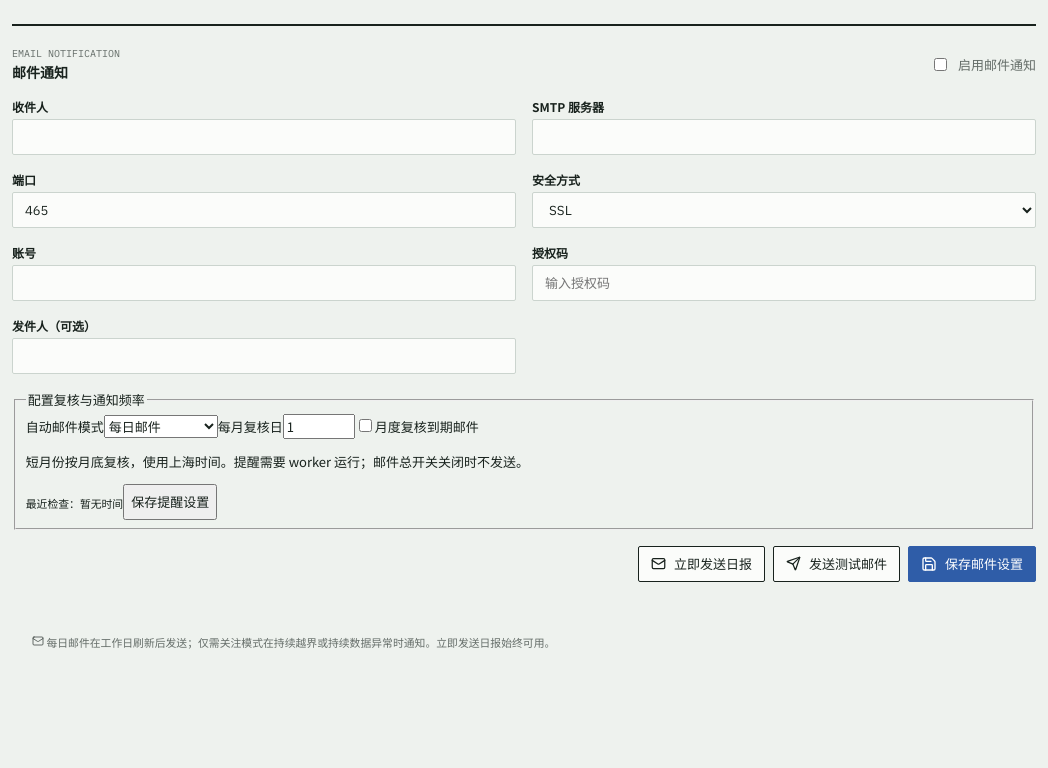
Test: shows the not-configured result for a manual digest
Expected: the heading "邮件通知" is shown, [12,62,68,82]
Click the button "立即发送日报" at {"x": 702, "y": 564}, box [638,546,765,582]
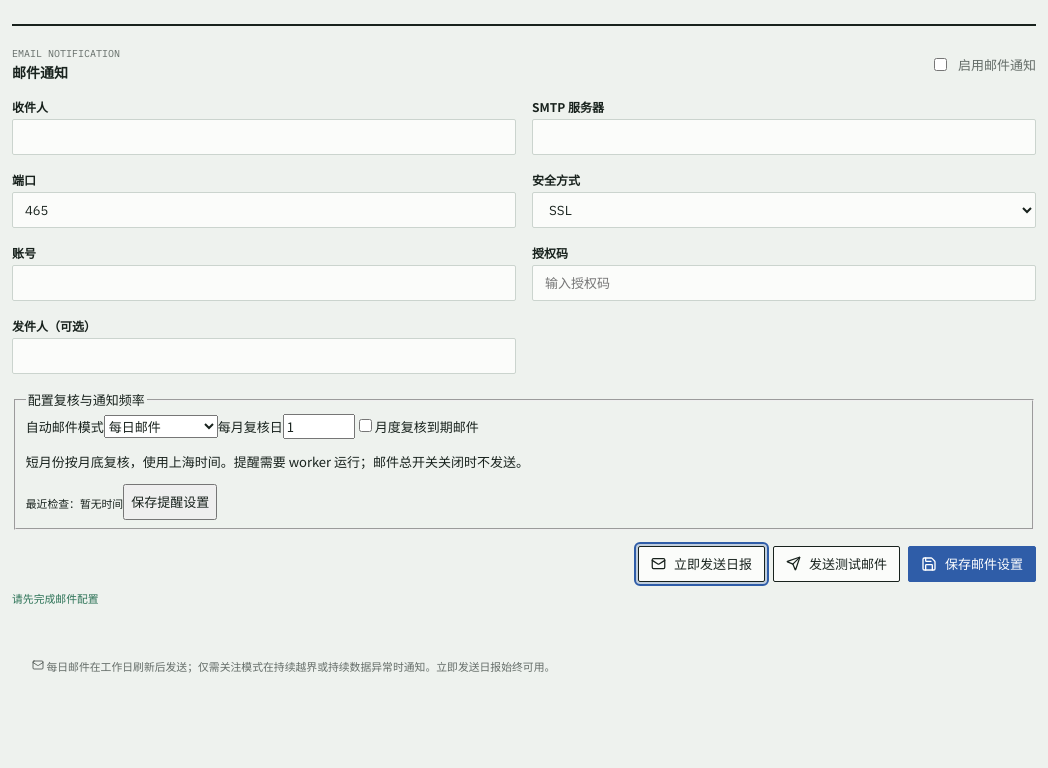
Expected: the text "请先完成邮件配置" is shown, [12,590,99,606]
